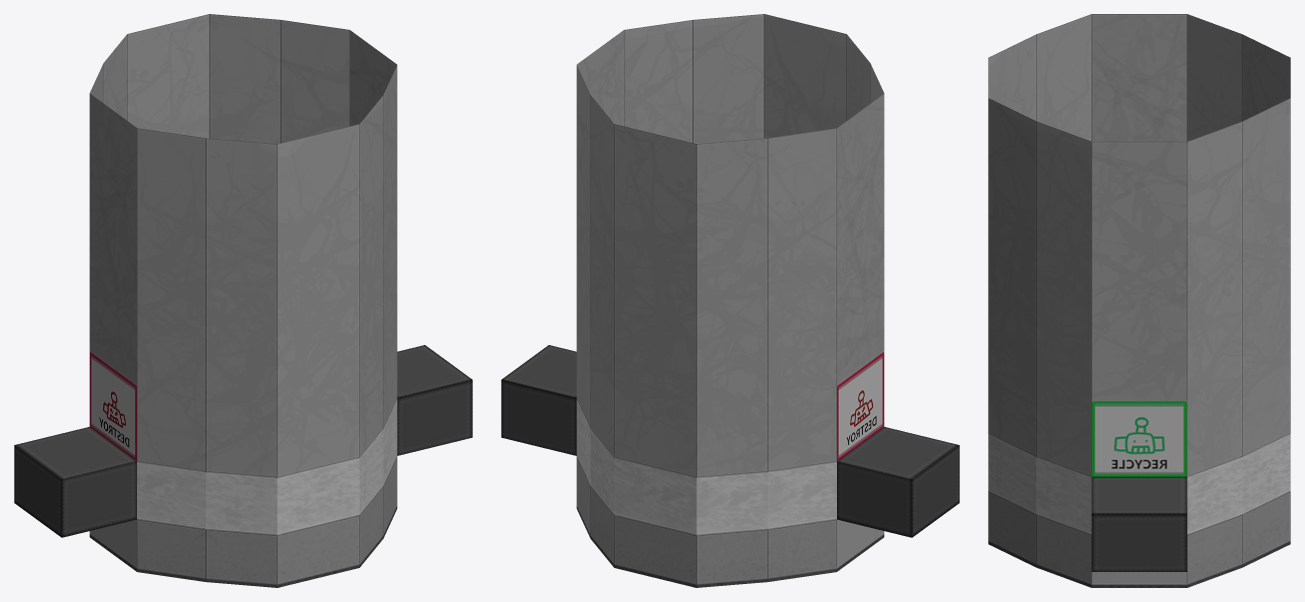
Rendered from Map.fbx.
3 views of the same model, side by side, from view 1: azimuth 30°, elevation 25°; view 2: azimuth 150°, elevation 25°; view 3: azimuth 270°, elevation 25° (orthographic).
Parts seen in each view (by area): view 1: arena; view 2: arena; view 3: arena.
Boxes of the visible parts, x1,y1,x2,y2 form: arena: (14,14,472,587); arena: (501,14,959,587); arena: (988,14,1290,587).
Bounding box in the file's own units: 4913 × 5176 × 3113.
1 material, 1 textured.
